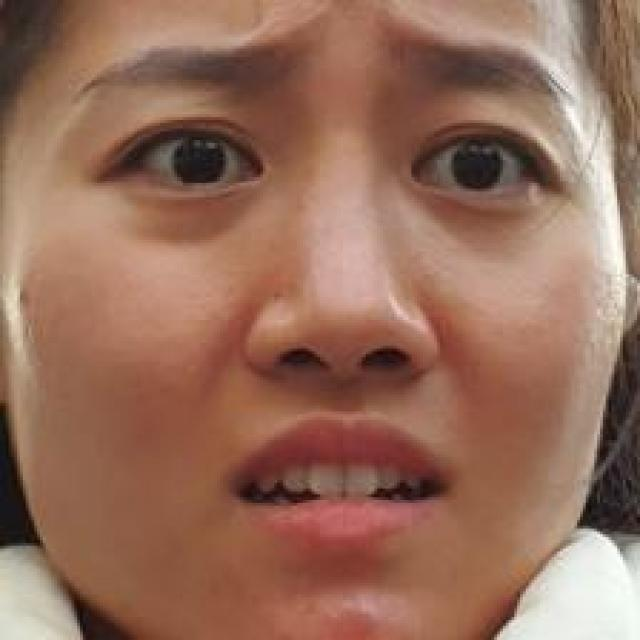fear: (50, 4, 581, 563)
